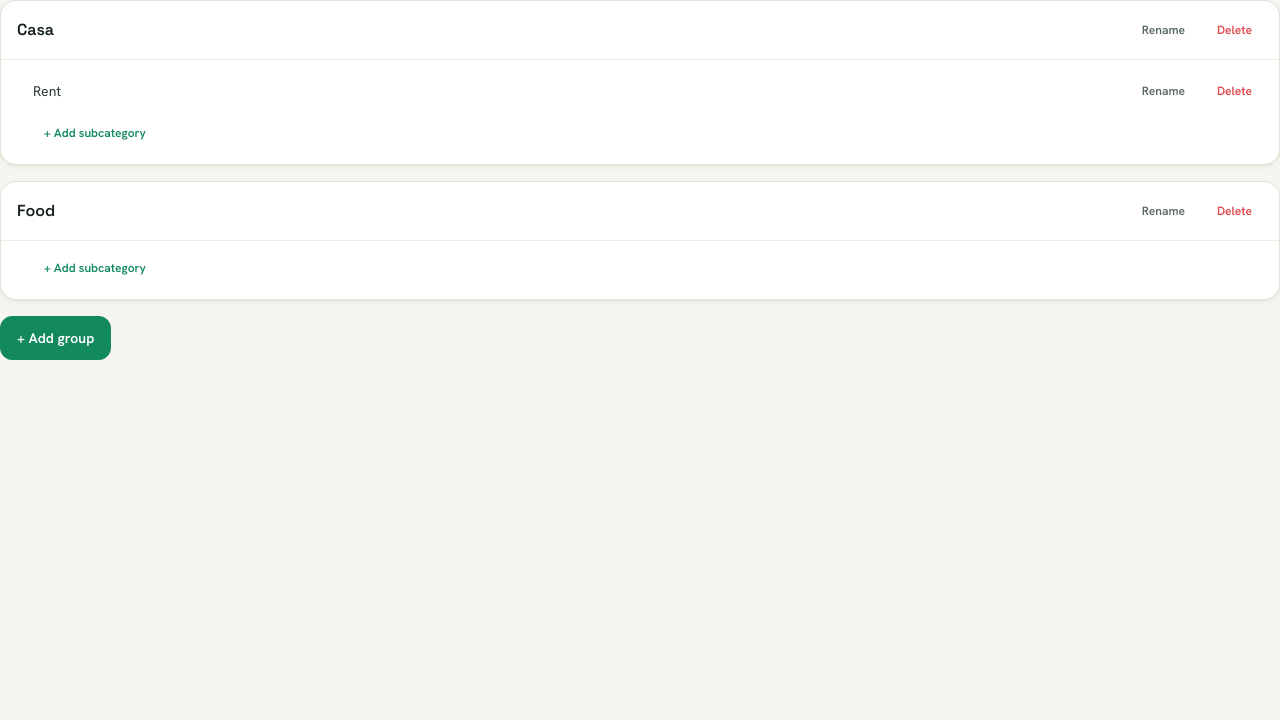
Test case: CategoriesManager — subcategory deletion › TC-07-06: clicking Delete on subcategory opens confirm dialog
Click the button "Delete" in the row of "Rent".
click(1234, 91)  # box [1206,76,1263,106]
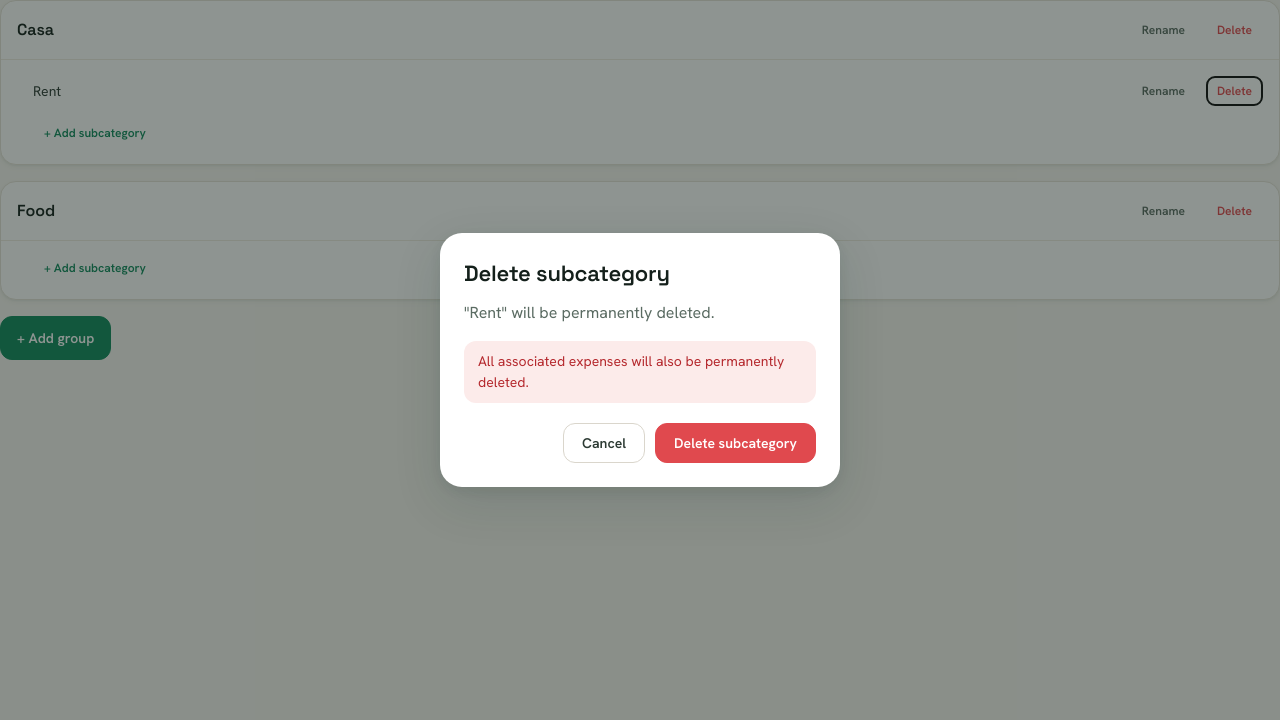
Expected: the dialog is shown
